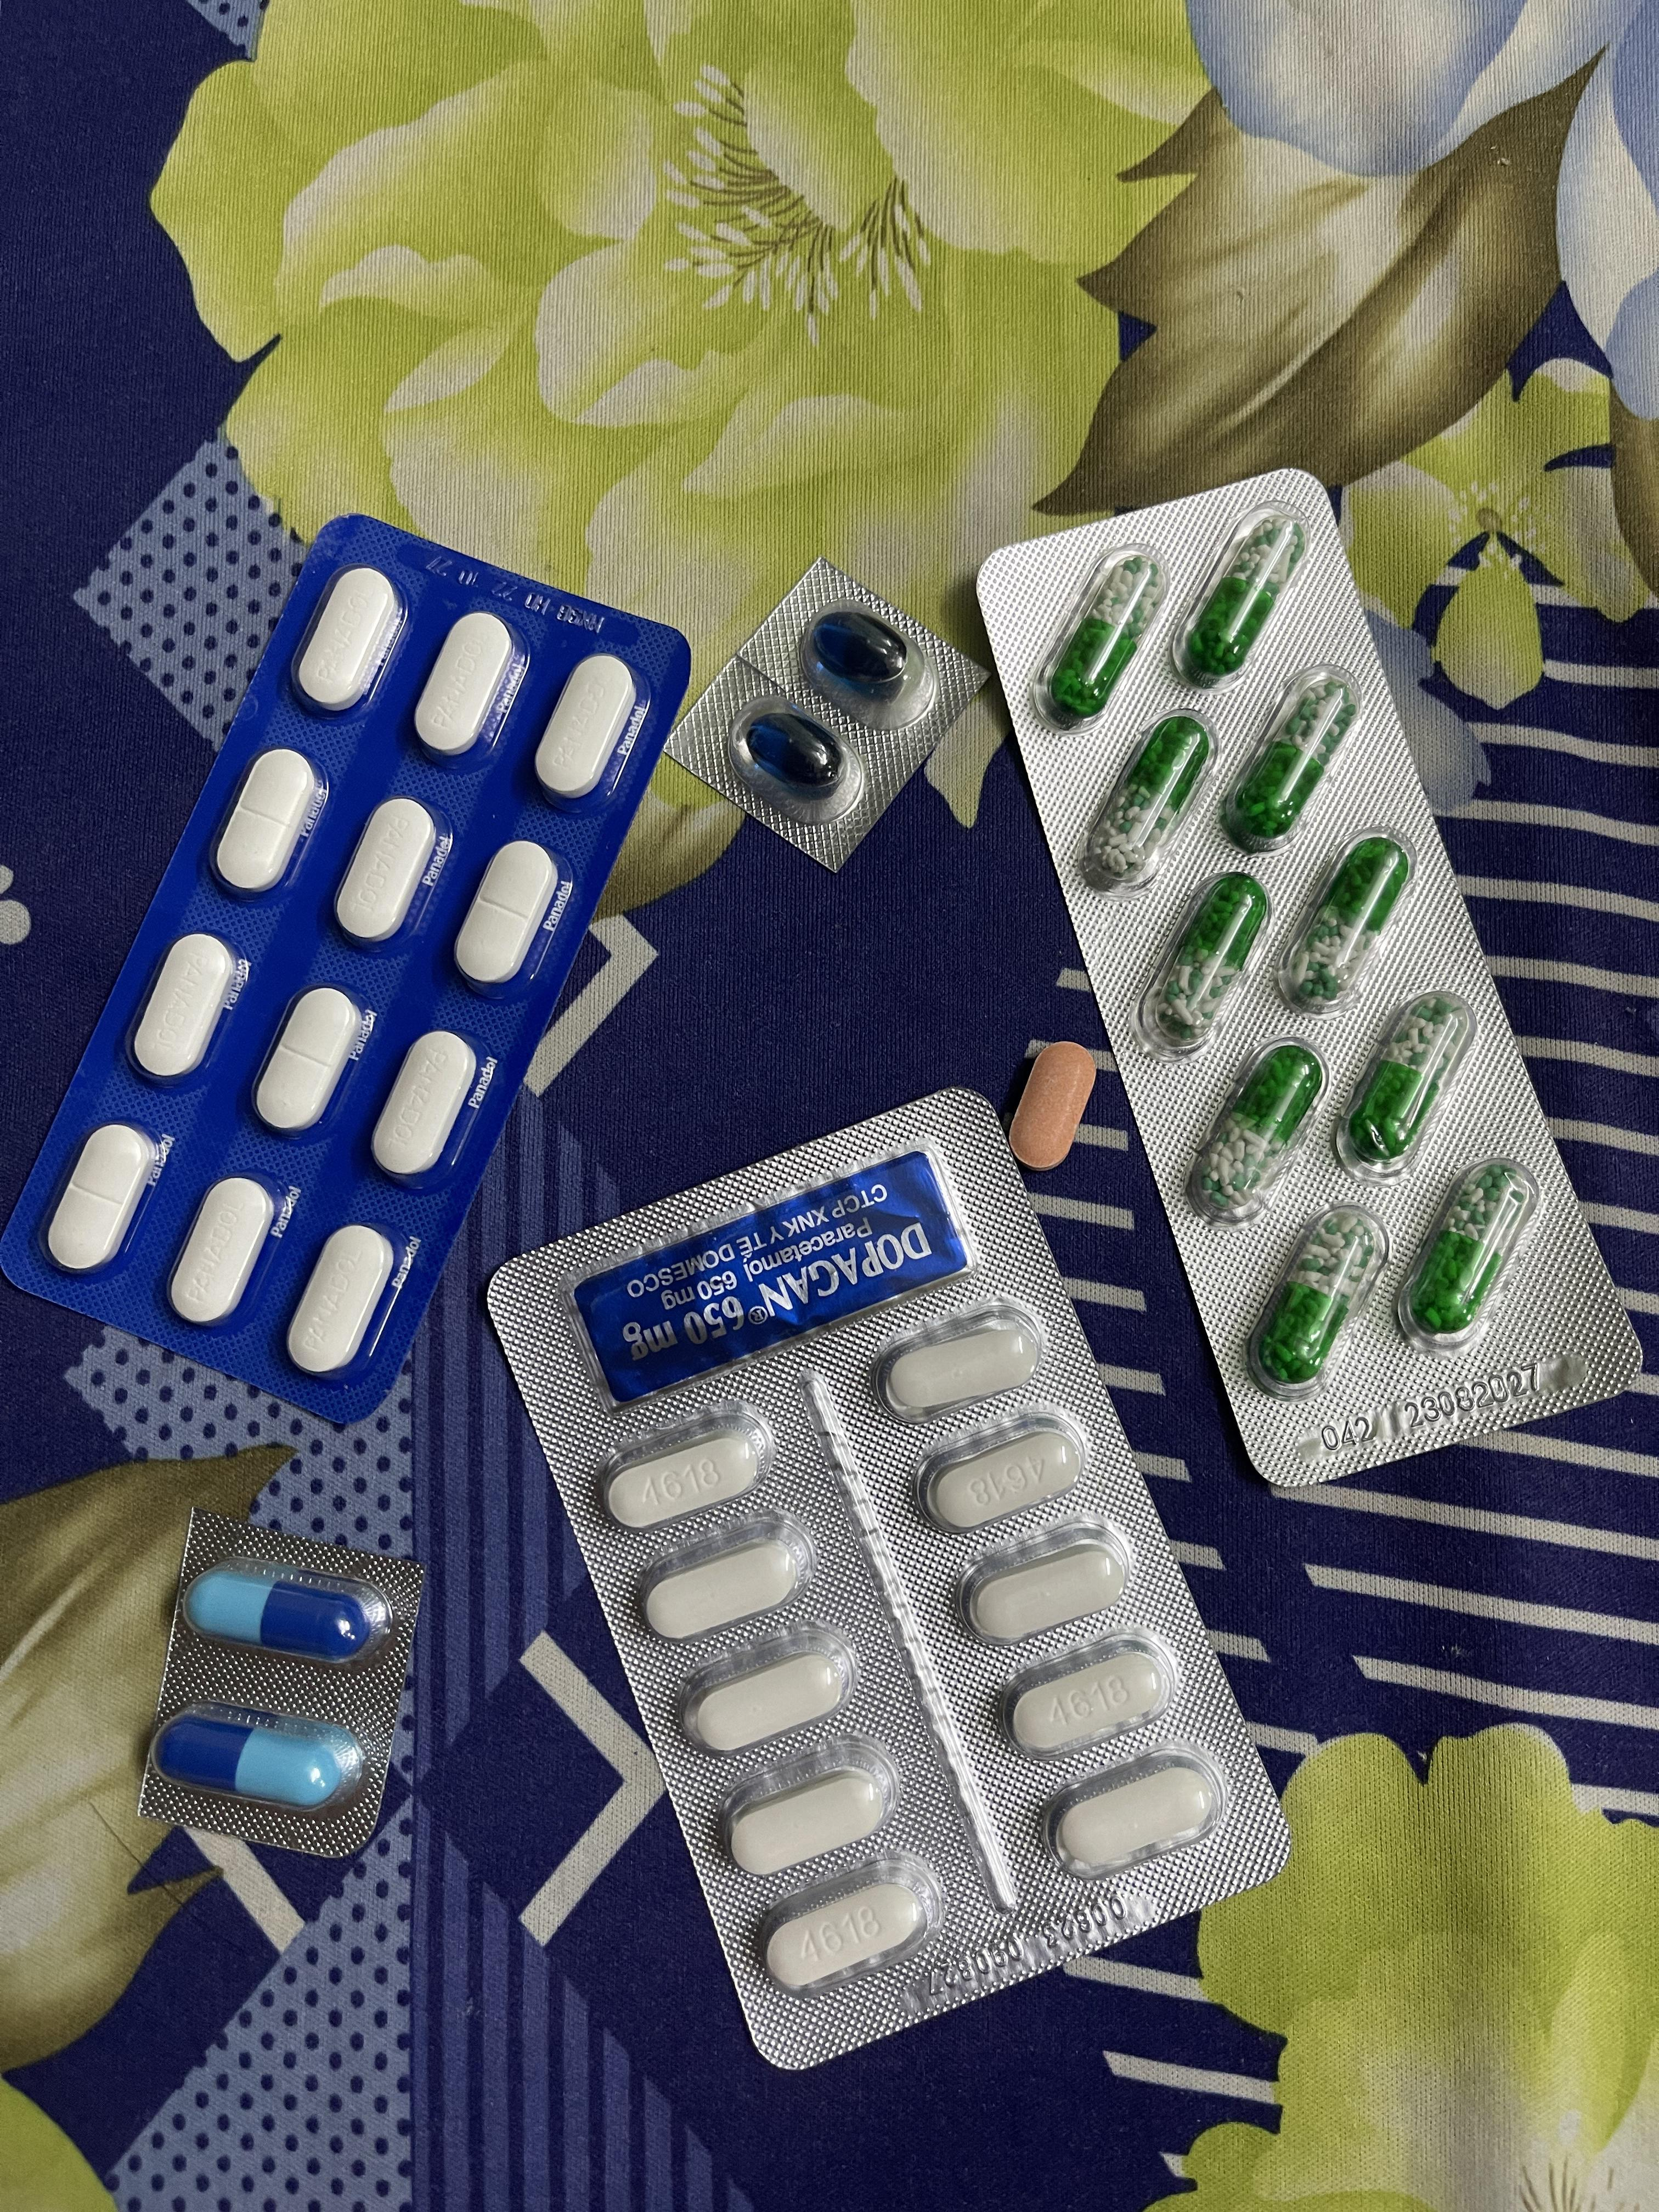Lincomyxin_500mg: (744, 711, 843, 791), (817, 610, 911, 686)
Loratadine_10mg: (1006, 1042, 1101, 1170)
Paracetamol_350mg: (44, 1122, 159, 1275), (127, 932, 239, 1087), (369, 1031, 481, 1183), (254, 984, 364, 1137), (453, 840, 563, 989), (167, 1176, 277, 1325), (288, 1226, 397, 1374), (532, 657, 640, 806), (213, 747, 321, 897), (333, 796, 441, 946), (293, 566, 401, 711), (413, 610, 519, 756)
Paracetamol_500mg: (683, 1641, 845, 1757), (767, 1883, 924, 1998), (730, 1766, 889, 1879), (1054, 1763, 1213, 1874), (965, 1543, 1124, 1644), (1011, 1653, 1169, 1754), (645, 1540, 796, 1644), (605, 1433, 762, 1533), (927, 1435, 1075, 1531), (887, 1324, 1040, 1413)
Paracetamol_650mg: (1405, 1162, 1539, 1345), (1256, 1212, 1380, 1386), (1286, 846, 1406, 1015), (1145, 880, 1263, 1047), (1199, 1043, 1319, 1207), (1046, 556, 1164, 719), (1246, 690, 1359, 845), (1093, 718, 1206, 873), (1349, 1010, 1459, 1162), (1188, 523, 1295, 678)
pill: (153, 1705, 366, 1810), (181, 1573, 366, 1660)
